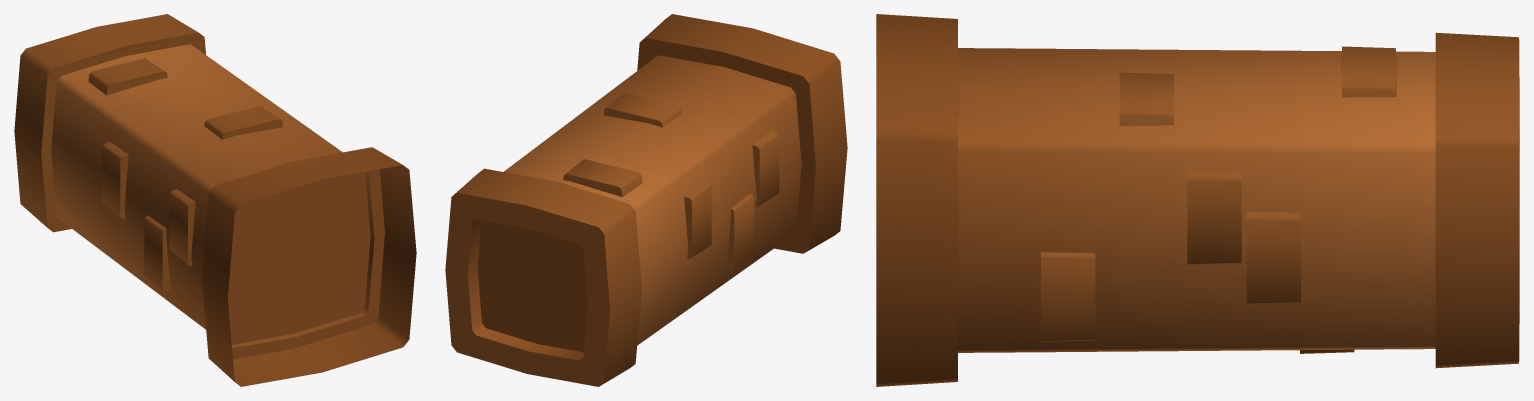
Rendered from Pillar 02.FBX.
3 renders of one model, left to right at view 1: azimuth 30°, elevation 25°; view 2: azimuth 150°, elevation 25°; view 3: azimuth 270°, elevation 25°, orthographic. The views are drawn at different scales.
Visible parts, largest first — view 1: Pillar 02; view 2: Pillar 02; view 3: Pillar 02.
Boxes of the visible parts, box(x1,y1,x2,y2) form: Pillar 02: box(14, 14, 416, 386); Pillar 02: box(445, 14, 847, 386); Pillar 02: box(876, 14, 1519, 386).
Bounding box in the file's own units: 143 × 140 × 296.
Materials: 1 (1 with a texture image).
